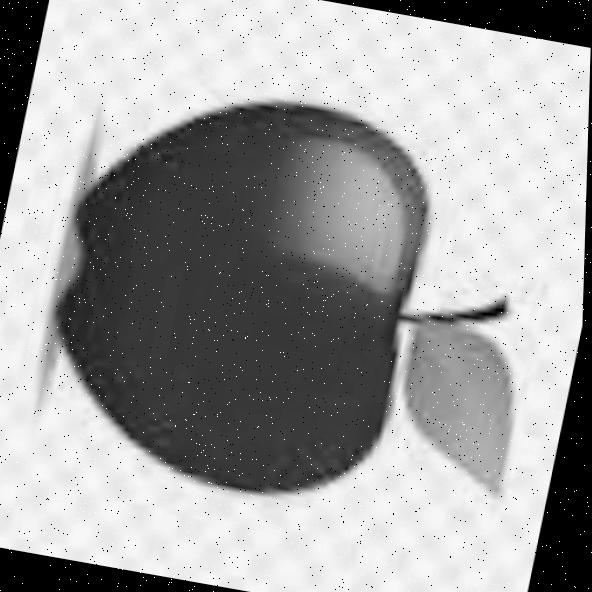HEALTHY: (10, 72, 480, 535)
